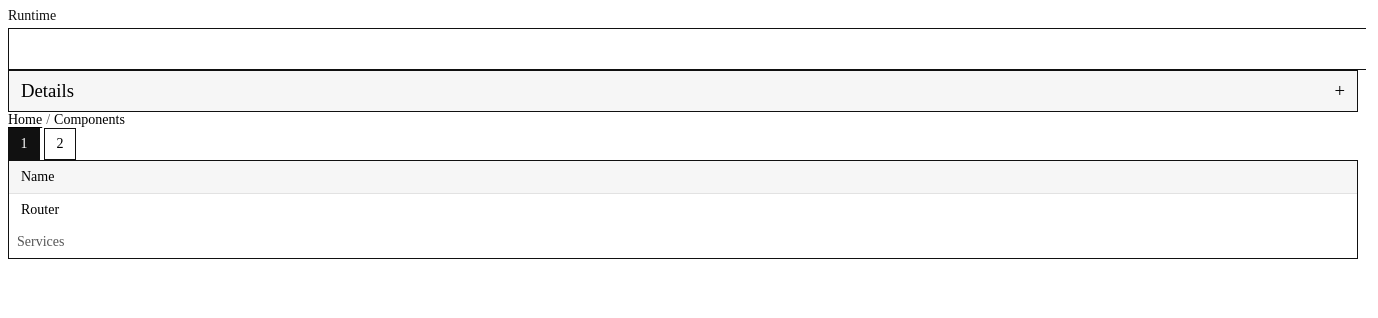
Test: combobox, disclosure, navigation, and table preserve native semantics
Click the button "Details +" at (47, 90), box [9, 71, 1357, 111]
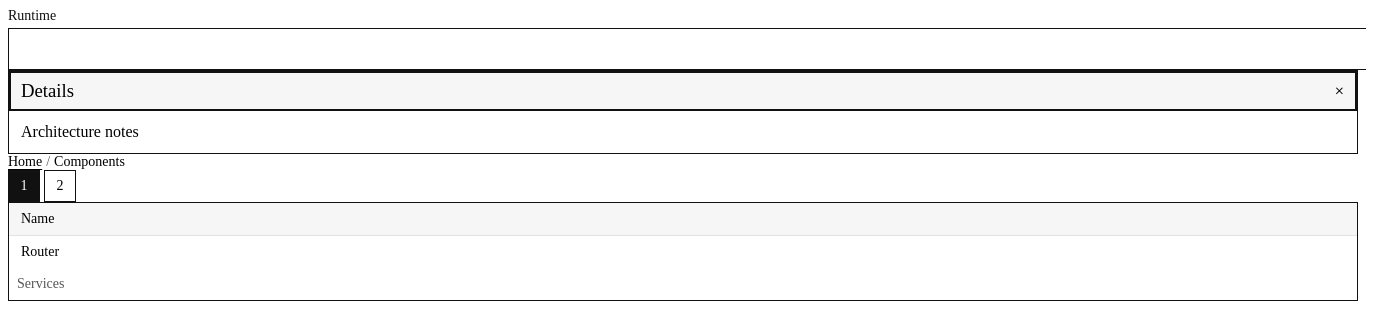
Expected: the navigation bar named "Breadcrumb" is shown, [8, 154, 125, 169]
Now the text "Architecture notes" is shown, box [21, 123, 139, 140]
